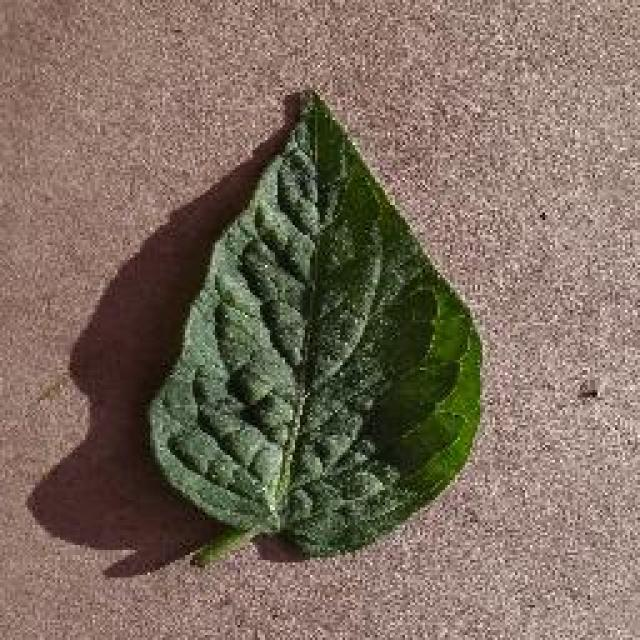Tomato___Spider_mites Two-spotted_spider_mite: (148, 92, 480, 568)
